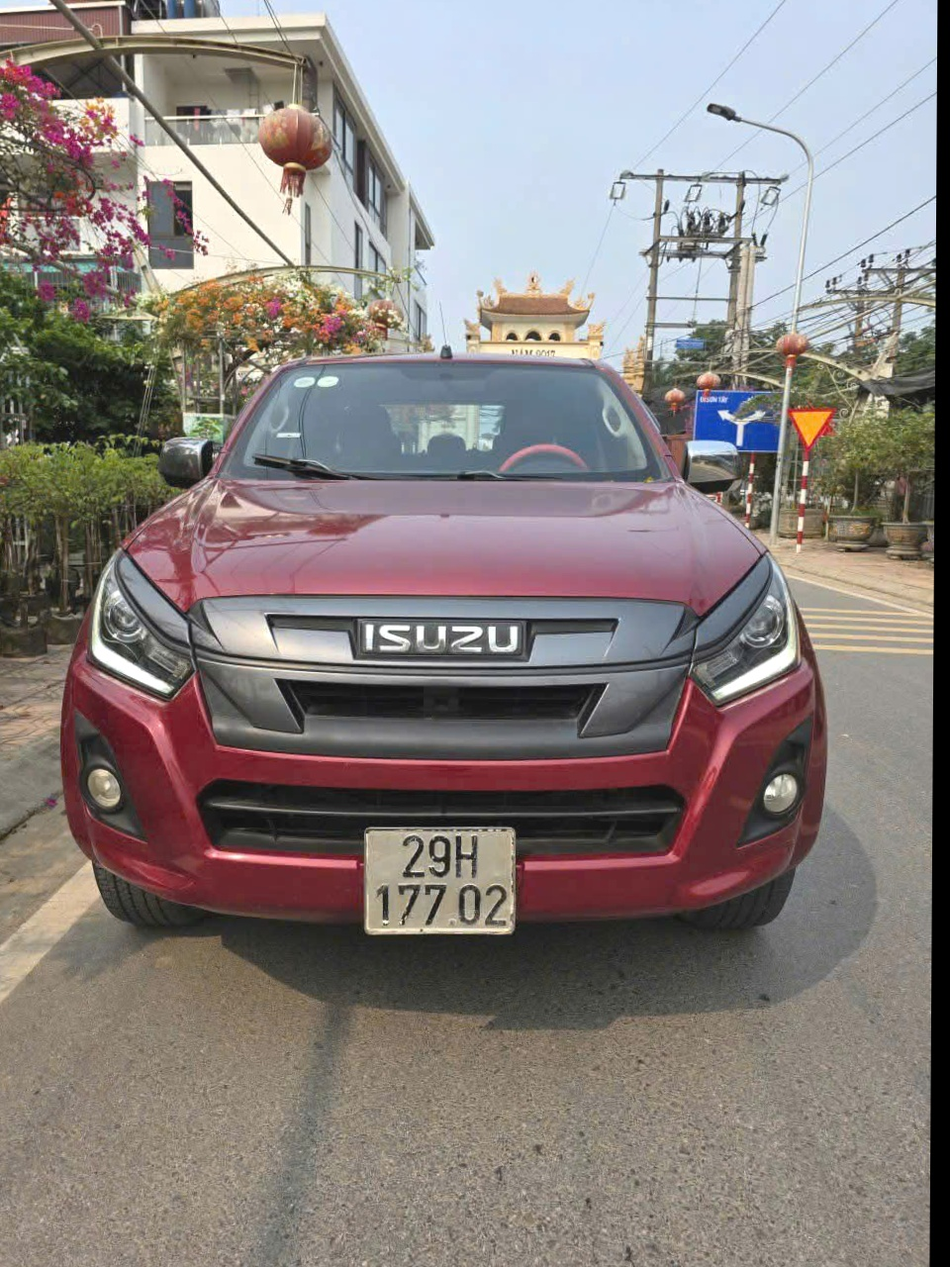Bien-so: (417, 838, 575, 950)
